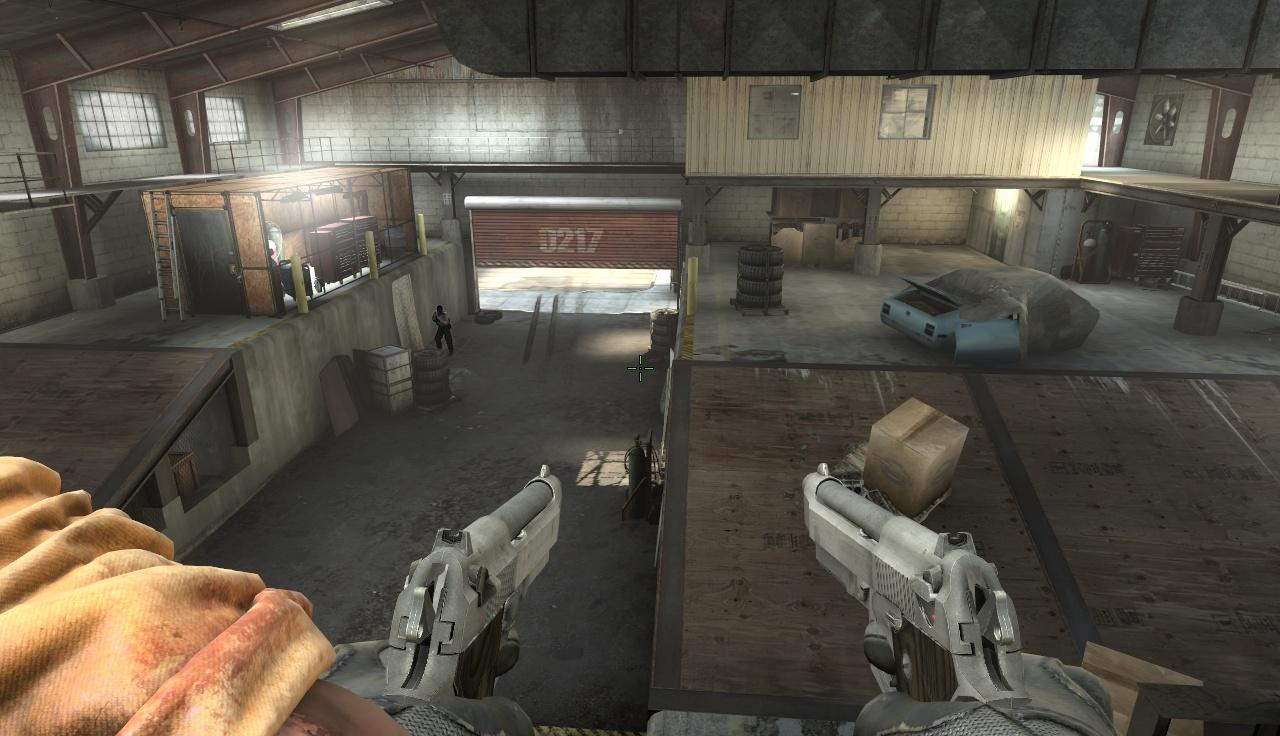pistol: (802, 463, 1121, 736)
tt: (432, 305, 453, 356)
tthead: (436, 305, 443, 315)
